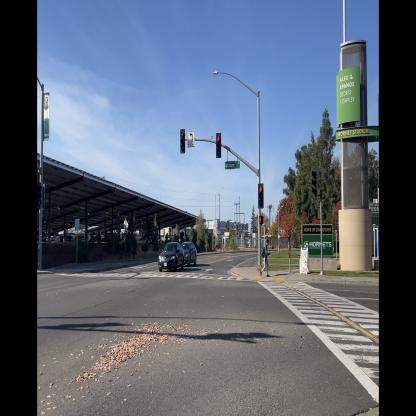left-red: (180, 128, 186, 155)
red: (257, 182, 264, 210), (215, 132, 222, 159)
